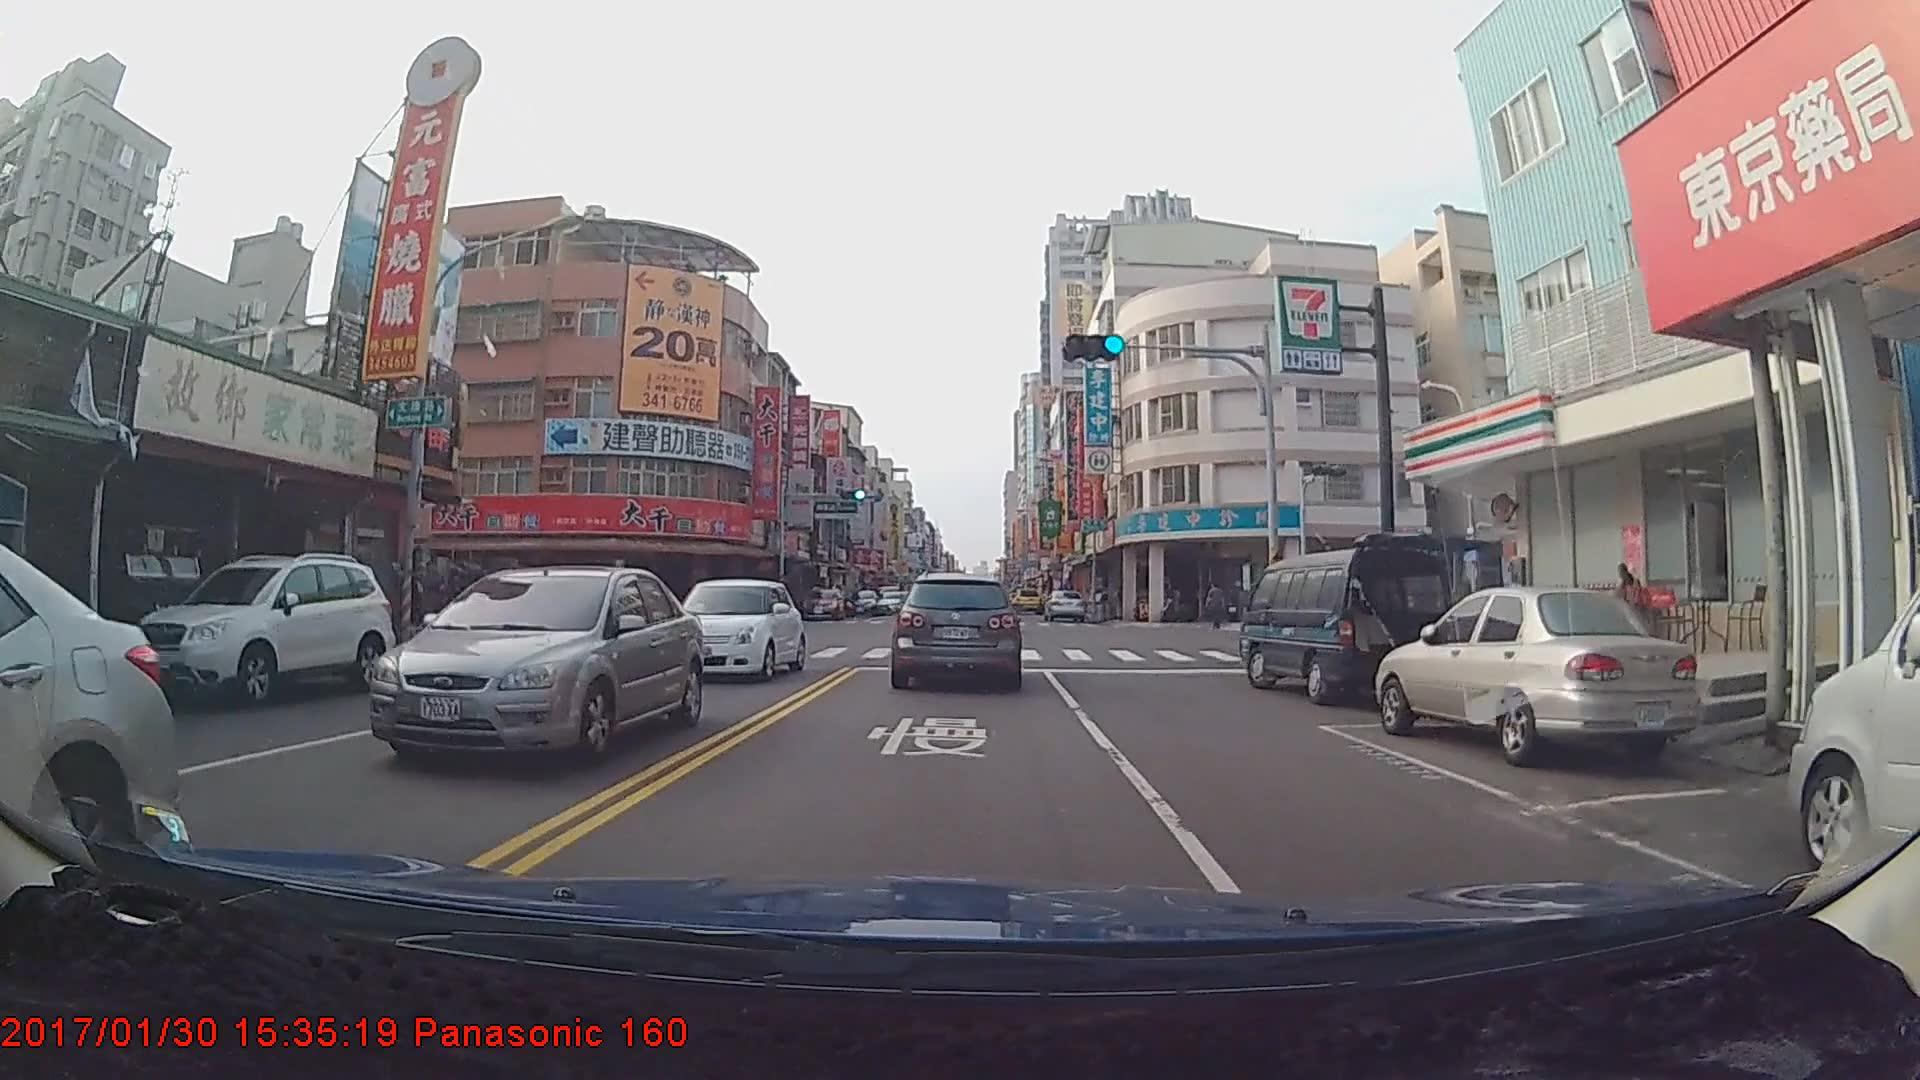pedestrian: (1208, 584, 1229, 634)
vehicle: (0, 524, 178, 958), (367, 560, 706, 769), (1376, 584, 1700, 770), (132, 548, 394, 709), (1791, 558, 1920, 878), (1238, 546, 1460, 709), (657, 576, 803, 683), (892, 572, 1022, 690), (1043, 588, 1086, 624), (803, 585, 845, 620), (844, 590, 880, 615), (1013, 587, 1042, 612)
